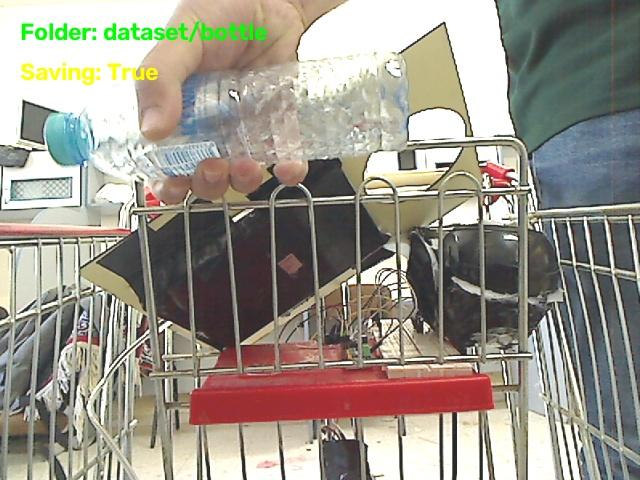Bottle: (46, 53, 409, 177)
can: (146, 0, 315, 92), (256, 1, 362, 68), (135, 32, 196, 140)
